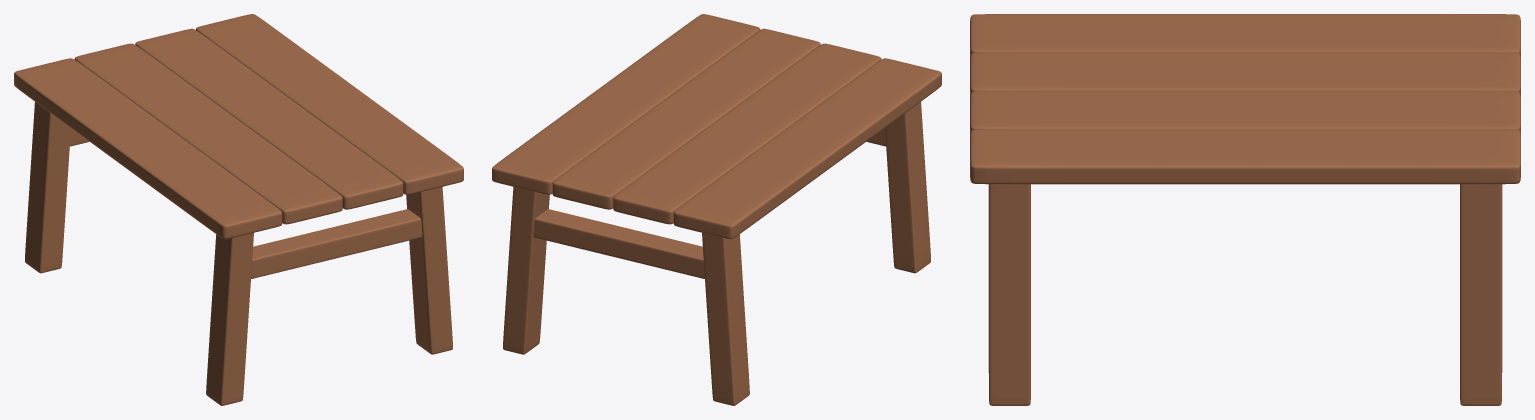
Rendered from Tisch.fbx.
The picture shows the model from 3 angles, left to right: view 1: azimuth 30°, elevation 25°; view 2: azimuth 150°, elevation 25°; view 3: azimuth 270°, elevation 25°; orthographic projection. The views are drawn at different scales.
Parts seen in each view (by area): view 1: Tisch; view 2: Tisch; view 3: Tisch.
Part boxes in pixels (box(x1,y1,x2,y2)): Tisch: box(14, 14, 463, 405); Tisch: box(492, 14, 941, 405); Tisch: box(970, 14, 1520, 405).
Size of the model in its own units: 800 by 592 by 1212.
